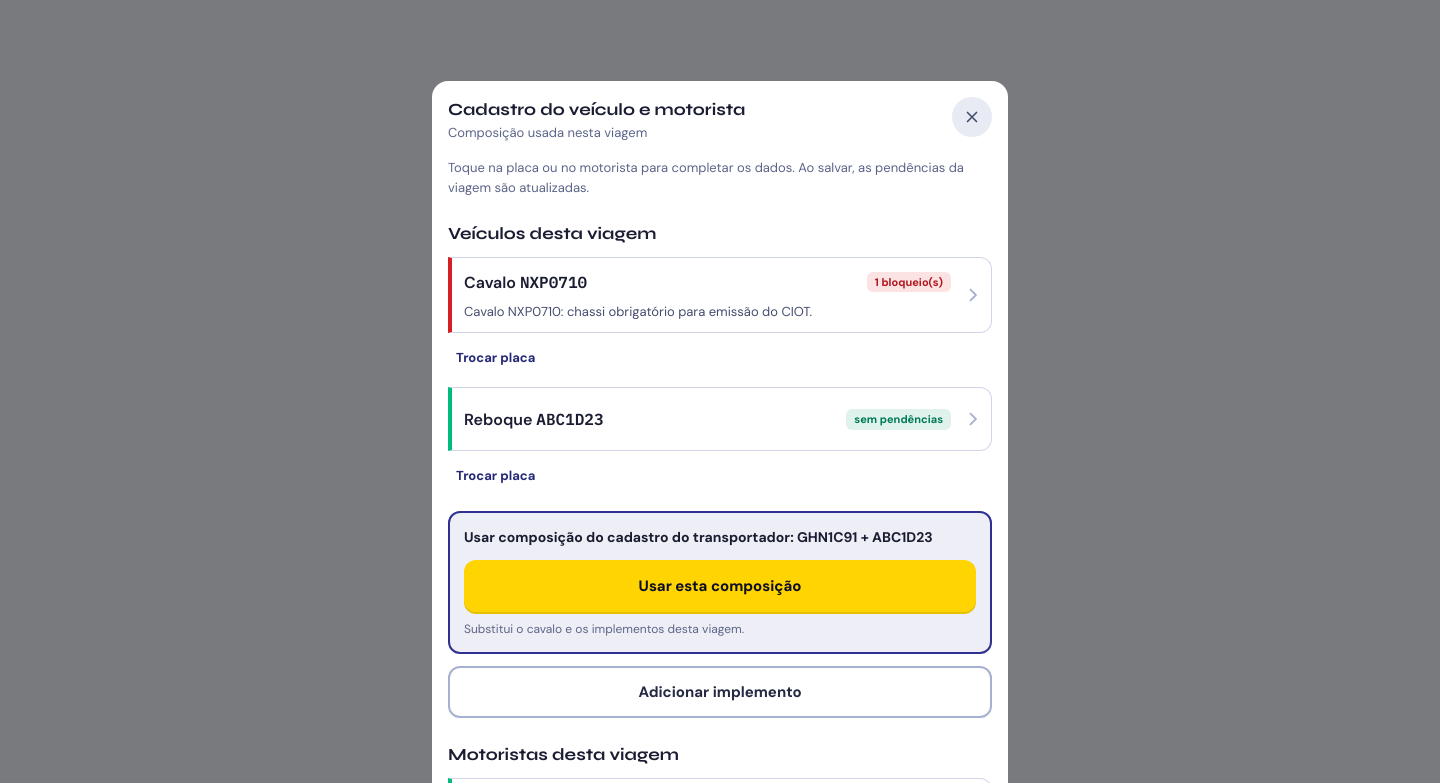
TripRegistryEditor — cadastro da composição real › mantém a composição e mostra o erro retornado quando a troca é recusada
The width and height of the screenshot is (1440, 783).
Click the button "Usar esta composição" at (720, 586), box top-left (464, 560), bottom-right (976, 612)
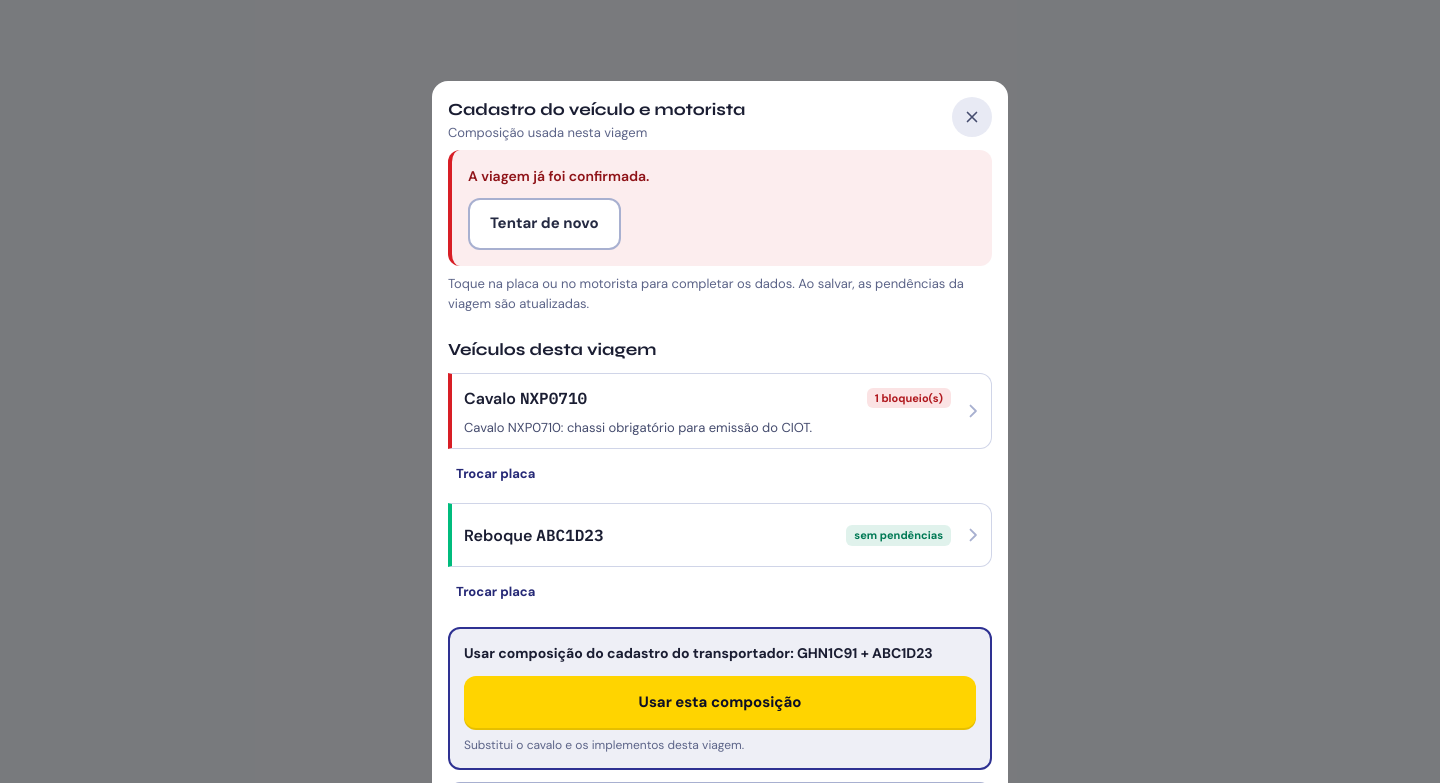
Check: the button "Cavalo NXP0710" is shown, box top-left (448, 372), bottom-right (992, 449)
Check: the text "A viagem já foi confirmada." is shown, box top-left (468, 167), bottom-right (649, 185)
